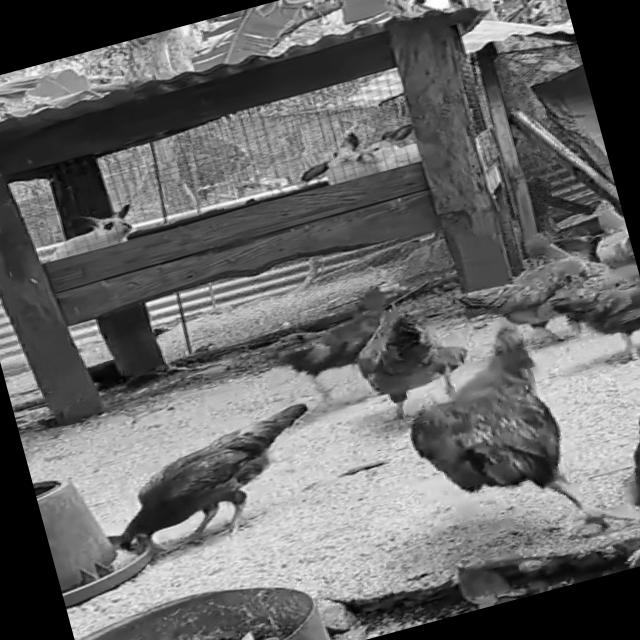feeding: (91, 394, 337, 568)
running: (379, 308, 598, 553), (257, 259, 465, 422)
